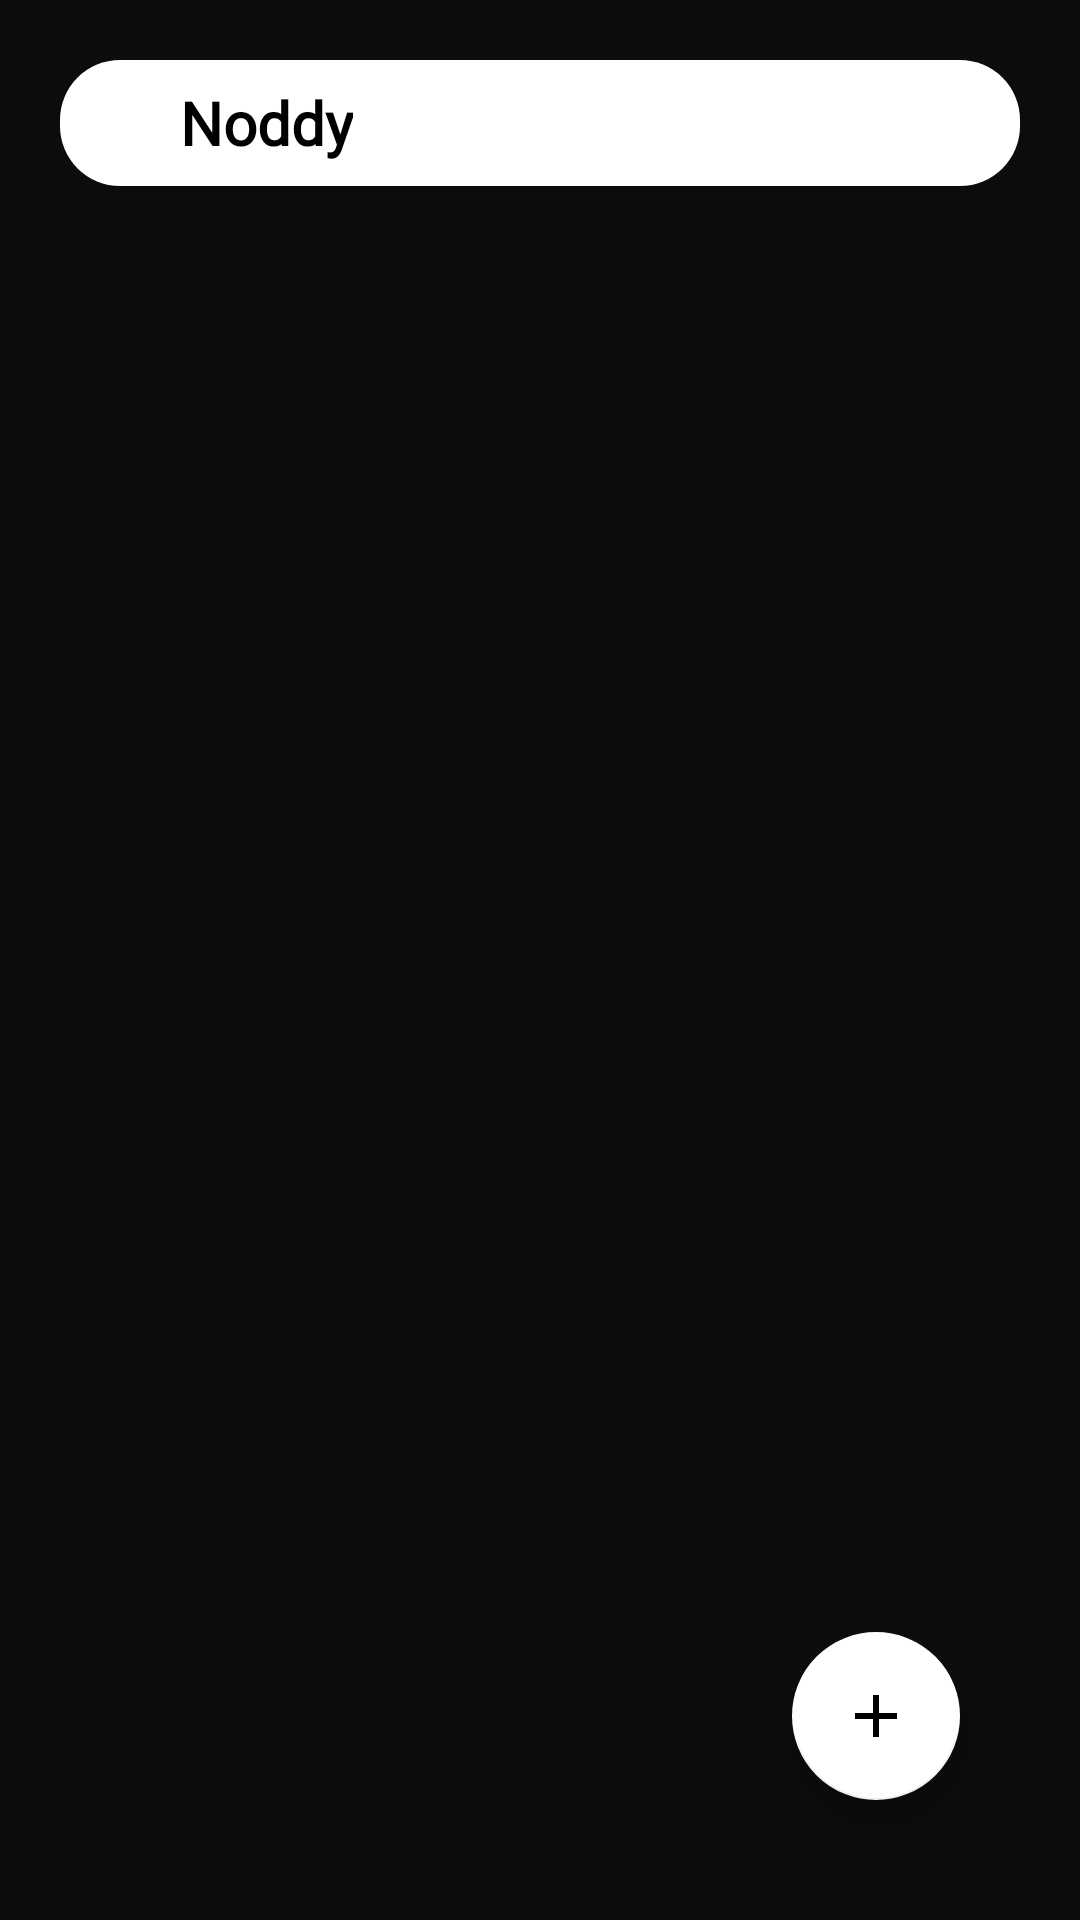

Icon click points for this 1080*1920 phone screenshot, format (x=x, y=y):
add: (x=876, y=1716)
